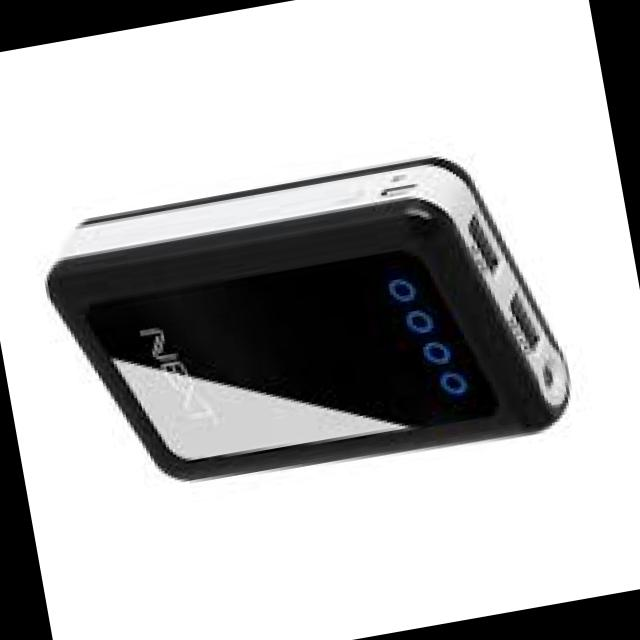portable-charger: (29, 135, 577, 507)
